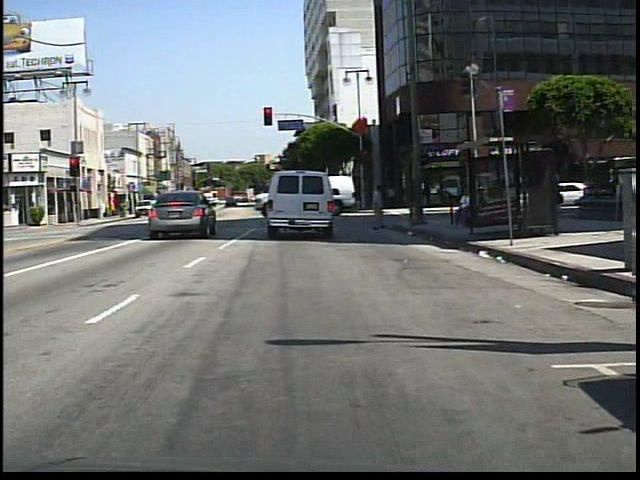person: (368, 181, 393, 235), (453, 188, 474, 233), (156, 192, 171, 218)
